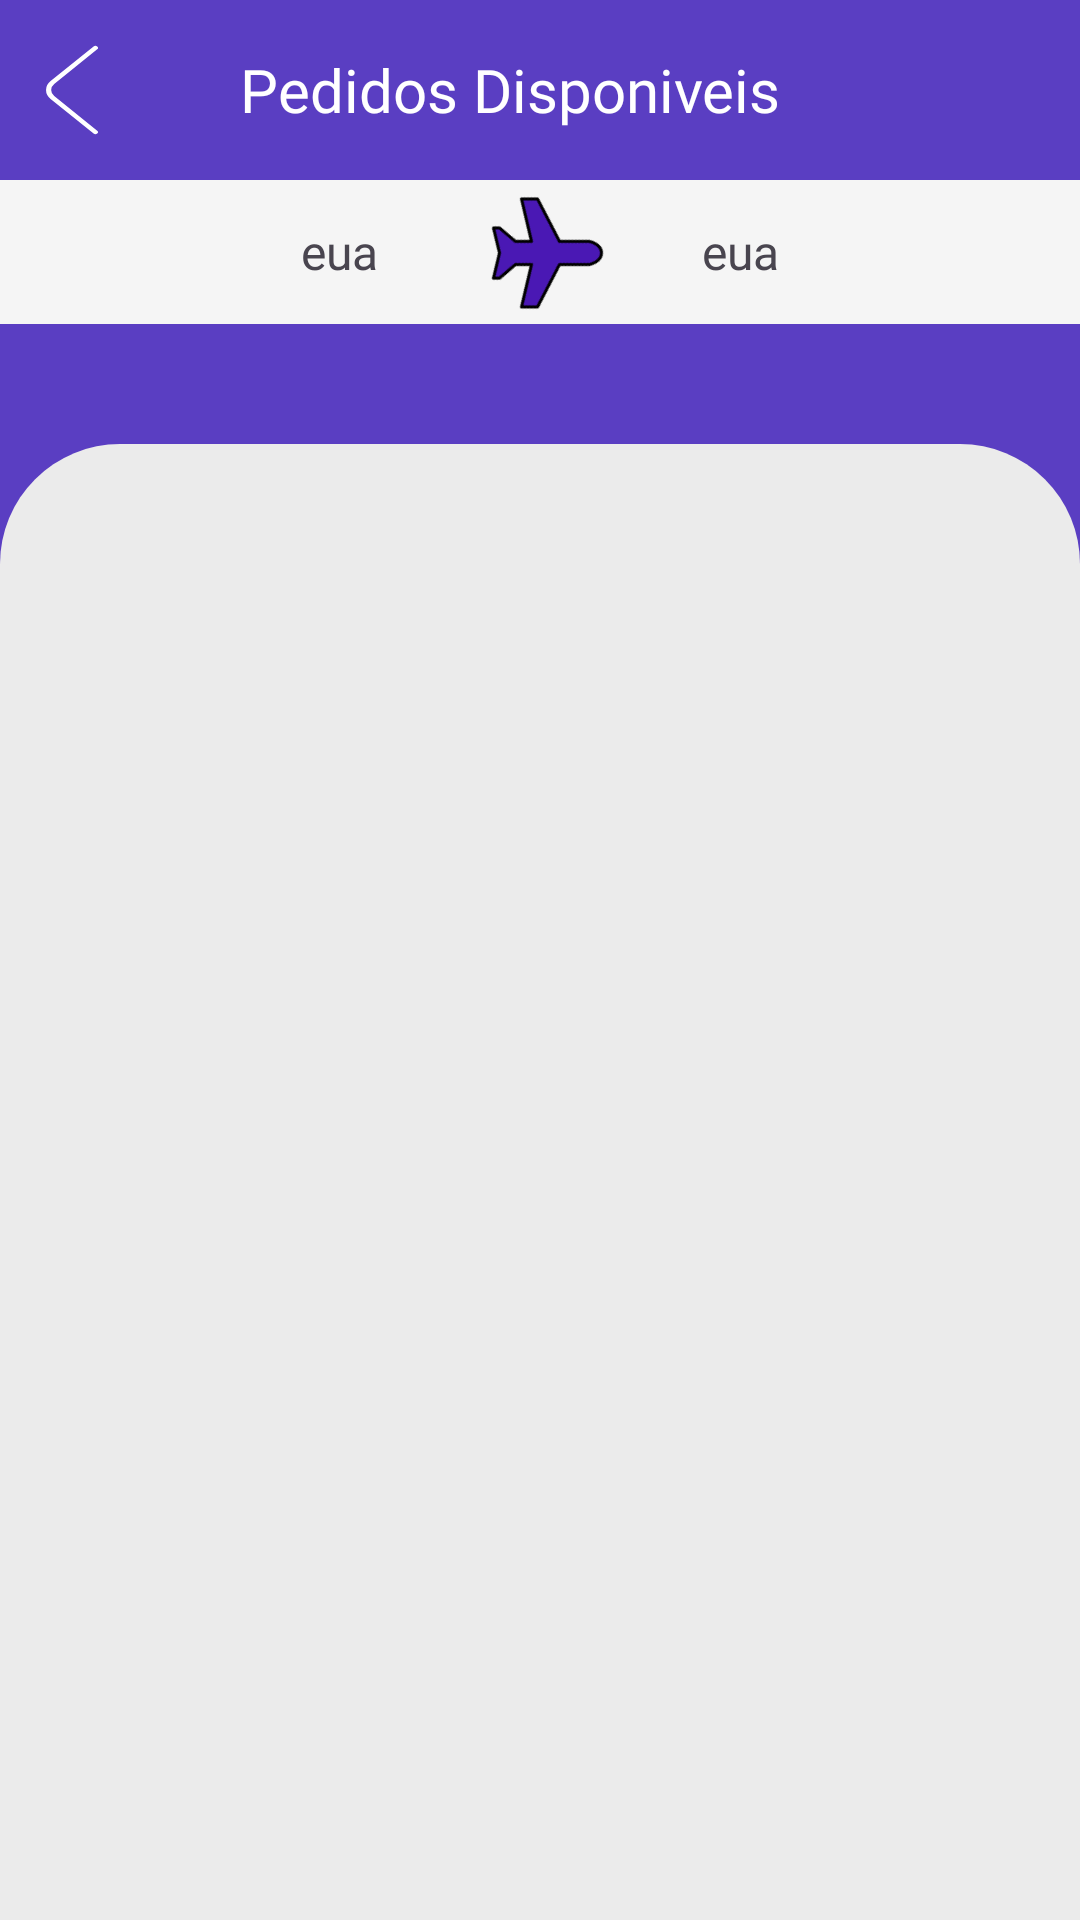

Icon click points for this 1080x1920 phone screenshot, format (x,y):
seta voltar constrast: (72,90)
